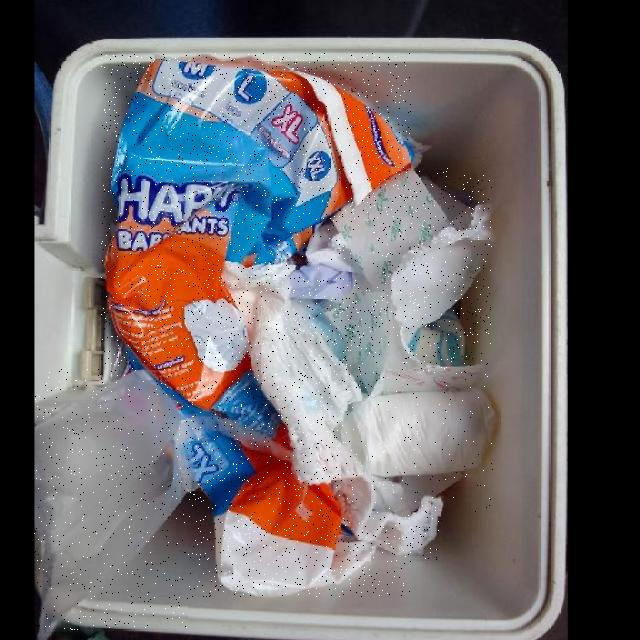paper: (225, 265, 444, 560), (342, 388, 493, 517), (387, 175, 492, 330), (334, 166, 456, 297), (375, 327, 491, 395), (329, 294, 392, 396), (406, 308, 469, 364), (306, 227, 371, 278)
plastic: (102, 54, 411, 597), (35, 370, 188, 630)
